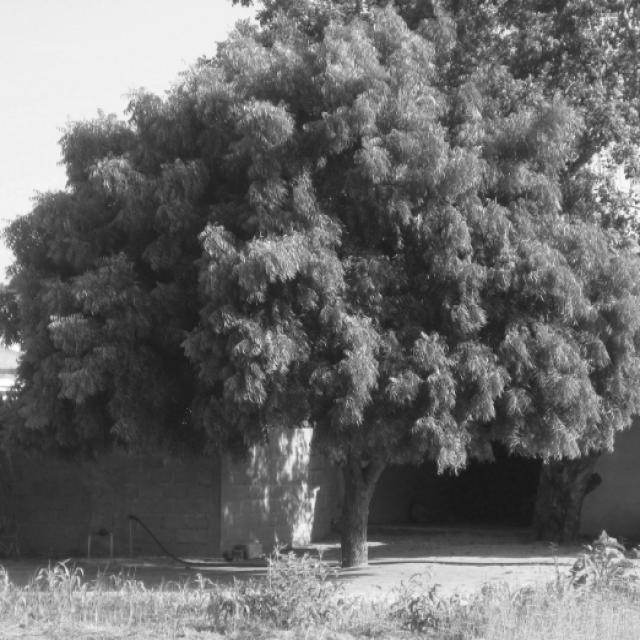Neem-Tree: (60, 46, 620, 602)
